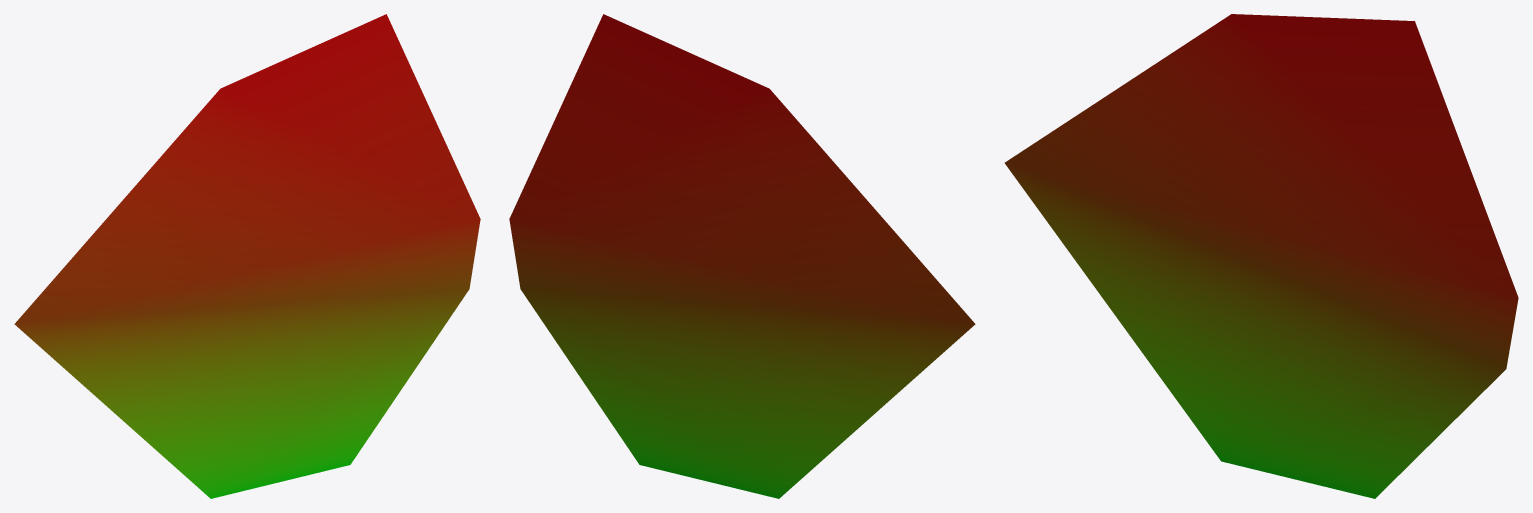
File: Var6_LOD4.fbx
3 views of the same model, side by side, from view 1: azimuth 30°, elevation 25°; view 2: azimuth 150°, elevation 25°; view 3: azimuth 330°, elevation 25° (orthographic). The views are drawn at different scales.
Visible parts, largest first — view 1: _dazv_Var6_LOD4; view 2: _dazv_Var6_LOD4; view 3: _dazv_Var6_LOD4.
Boxes of the visible parts, x1,y1,x2,y2 form: _dazv_Var6_LOD4: [14, 14, 480, 498]; _dazv_Var6_LOD4: [509, 14, 975, 498]; _dazv_Var6_LOD4: [1004, 14, 1518, 498].
Bounding box in the file's own units: 34.18 × 30.97 × 2.06e-06.
